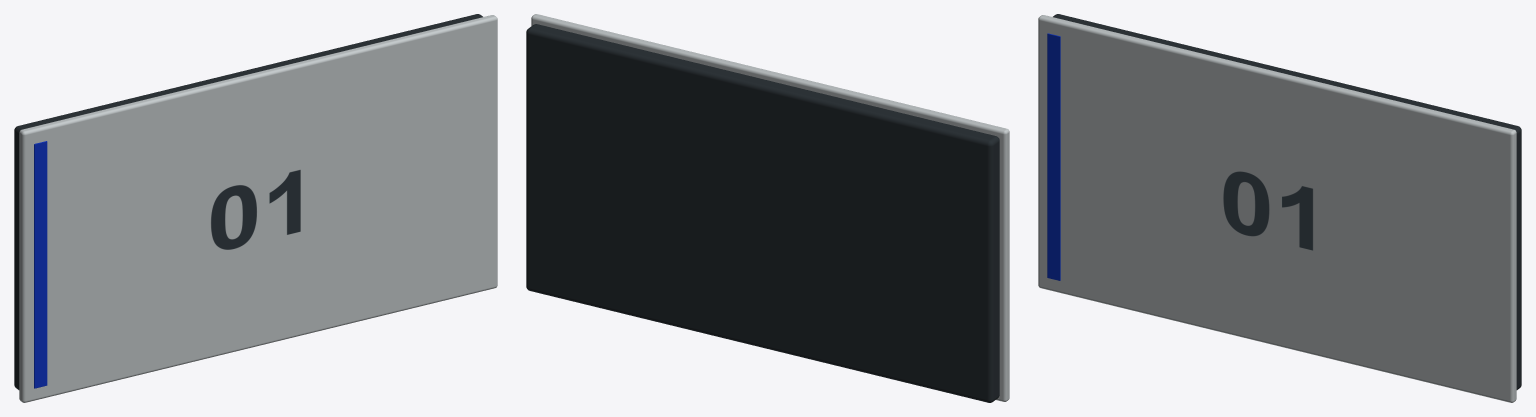
File: doorPlaque-2.glb
The picture shows the model from 3 angles, left to right: view 1: azimuth 30°, elevation 25°; view 2: azimuth 150°, elevation 25°; view 3: azimuth 330°, elevation 25°; orthographic projection.
Visible parts, largest first — view 1: doorPlaque_Matte anodised aluminium, doorPlaque_Graphite edge profile, doorPlaque_EDS selected finish, DoorPlaque_Label; view 2: doorPlaque_Graphite edge profile, doorPlaque_Matte anodised aluminium; view 3: doorPlaque_Matte anodised aluminium, doorPlaque_Graphite edge profile, doorPlaque_EDS selected finish, DoorPlaque_Label.
Boxes of the visible parts, x1,y1,x2,y2 form: doorPlaque_Matte anodised aluminium: (19, 15, 497, 402); doorPlaque_Graphite edge profile: (14, 14, 482, 389); doorPlaque_EDS selected finish: (34, 141, 47, 388); DoorPlaque_Label: (211, 170, 300, 249); doorPlaque_Graphite edge profile: (526, 24, 999, 402); doorPlaque_Matte anodised aluminium: (531, 14, 1009, 401); doorPlaque_Matte anodised aluminium: (1038, 15, 1516, 402); doorPlaque_Graphite edge profile: (1053, 14, 1521, 389); doorPlaque_EDS selected finish: (1047, 33, 1060, 280); DoorPlaque_Label: (1223, 171, 1312, 250).
Size of the model in its own units: 0.22 by 0.12 by 0.0126.
Materials: 4 (1 with a texture image).
